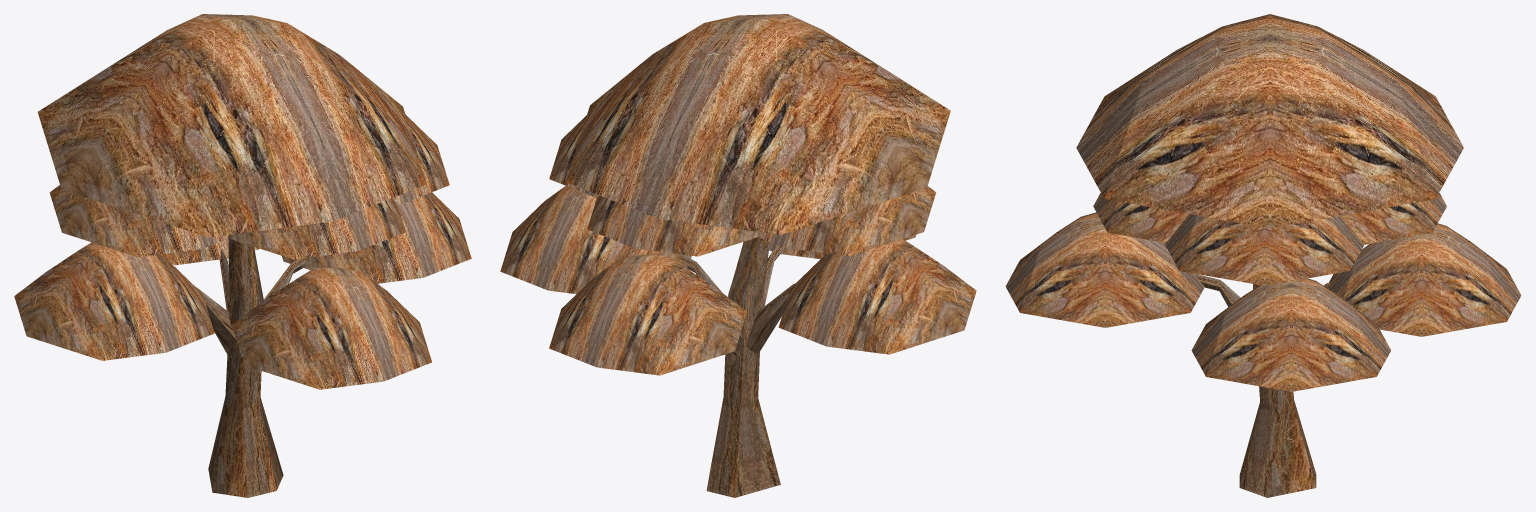
3 views of the same model, side by side, from view 1: azimuth 30°, elevation 25°; view 2: azimuth 150°, elevation 25°; view 3: azimuth 270°, elevation 25° (orthographic). The views are drawn at different scales.
Visible parts, largest first — view 1: 2_Cluster3, 1_Trunk; view 2: 2_Cluster3, 1_Trunk; view 3: 2_Cluster3, 1_Trunk.
Boxes of the visible parts, <box> form: 2_Cluster3: <box>14,14,471,389</box>; 1_Trunk: <box>196,238,305,497</box>; 2_Cluster3: <box>500,14,976,375</box>; 1_Trunk: <box>681,237,795,497</box>; 2_Cluster3: <box>1005,14,1521,391</box>; 1_Trunk: <box>1194,273,1330,497</box>.
Bounding box in the file's own units: 93.39 × 93.5 × 97.08.
1 material, 1 textured.
